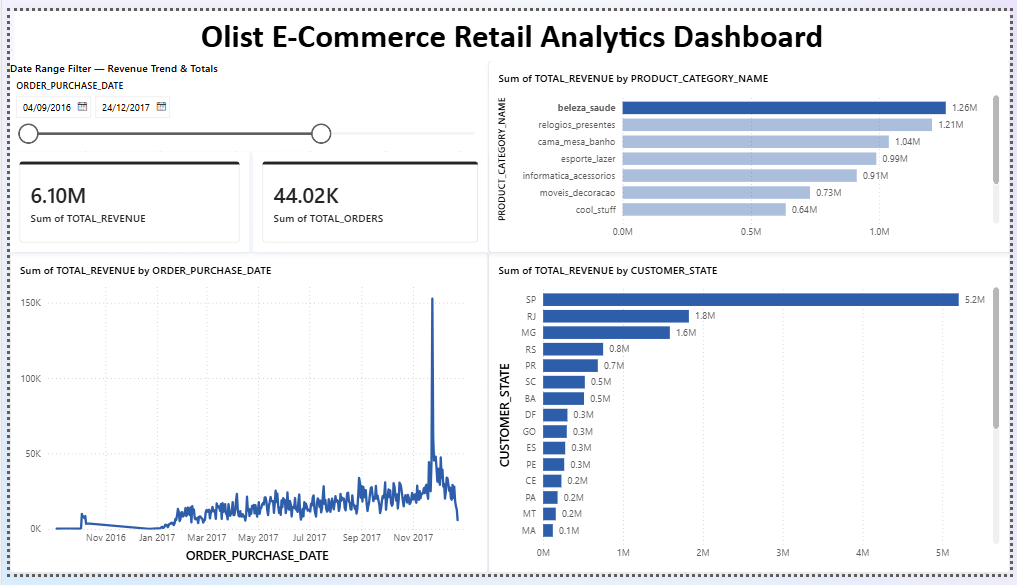

The page's visual inventory and layout, read from the dashboard file:
{"tool":"powerbi","page":{"name":"Page 1","canvas":[1280,720],"ordinal":0},"visuals":[{"type":"lineChart","fields":{"Category":["DAILY_REVENUE.ORDER_PURCHASE_DATE"],"Y":["Sum(DAILY_REVENUE.TOTAL_REVENUE)"]},"box":[0,309.9,612.3,410.1],"z":0},{"type":"slicer","title":"Date Range Filter — Revenue Trend & Totals","fields":{"Values":["DAILY_REVENUE.ORDER_PURCHASE_DATE"]},"box":[0,64.3,612.3,115.3],"z":1},{"type":"clusteredBarChart","fields":{"Category":["REVENUE_BY_STATE.CUSTOMER_STATE"],"Y":["Sum(REVENUE_BY_STATE.TOTAL_REVENUE)"]},"box":[612.3,309.9,667.1,410.1],"z":2},{"type":"clusteredBarChart","fields":{"Category":["TOP_CATEGORIES.PRODUCT_CATEGORY_NAME"],"Y":["Sum(TOP_CATEGORIES.TOTAL_REVENUE)"]},"box":[612.3,64.3,667.1,245.7],"z":3},{"type":"cardVisual","fields":{"Data":["Sum(DAILY_REVENUE.TOTAL_REVENUE)"]},"box":[0,179.5,306.1,128.5],"z":4},{"type":"cardVisual","fields":{"Data":["Sum(DAILY_REVENUE.TOTAL_ORDERS)"]},"box":[311.8,179.5,300.5,128.5],"z":5},{"type":"textbox","box":[5.7,0,1273.7,64.3],"z":6}]}

Visuals, with their boxes in screenshot pixels (x1, y1, x2, y2), scaled from the page's 1280x720 canvas onto the 1017x585 screenshot:
lineChart - DAILY_REVENUE.ORDER_PURCHASE_DATE x Sum(DAILY_REVENUE.TOTAL_REVENUE): {"left": 0, "top": 252, "right": 486, "bottom": 584}
"Date Range Filter — Revenue Trend & Totals" slicer: {"left": 0, "top": 52, "right": 486, "bottom": 146}
clusteredBarChart - REVENUE_BY_STATE.CUSTOMER_STATE x Sum(REVENUE_BY_STATE.TOTAL_REVENUE): {"left": 486, "top": 252, "right": 1016, "bottom": 584}
clusteredBarChart - TOP_CATEGORIES.PRODUCT_CATEGORY_NAME x Sum(TOP_CATEGORIES.TOTAL_REVENUE): {"left": 486, "top": 52, "right": 1016, "bottom": 252}
cardVisual - Sum(DAILY_REVENUE.TOTAL_REVENUE): {"left": 0, "top": 146, "right": 243, "bottom": 250}
cardVisual - Sum(DAILY_REVENUE.TOTAL_ORDERS): {"left": 248, "top": 146, "right": 486, "bottom": 250}
textbox: {"left": 5, "top": 0, "right": 1016, "bottom": 52}
